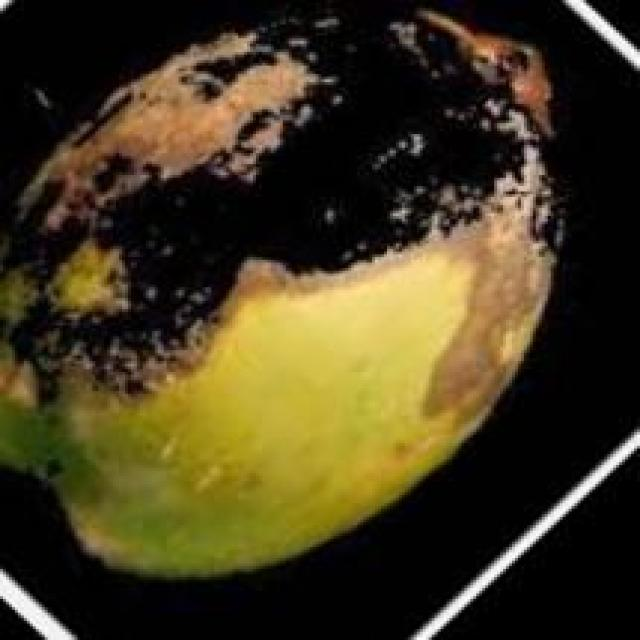damaged: (0, 0, 572, 583)
